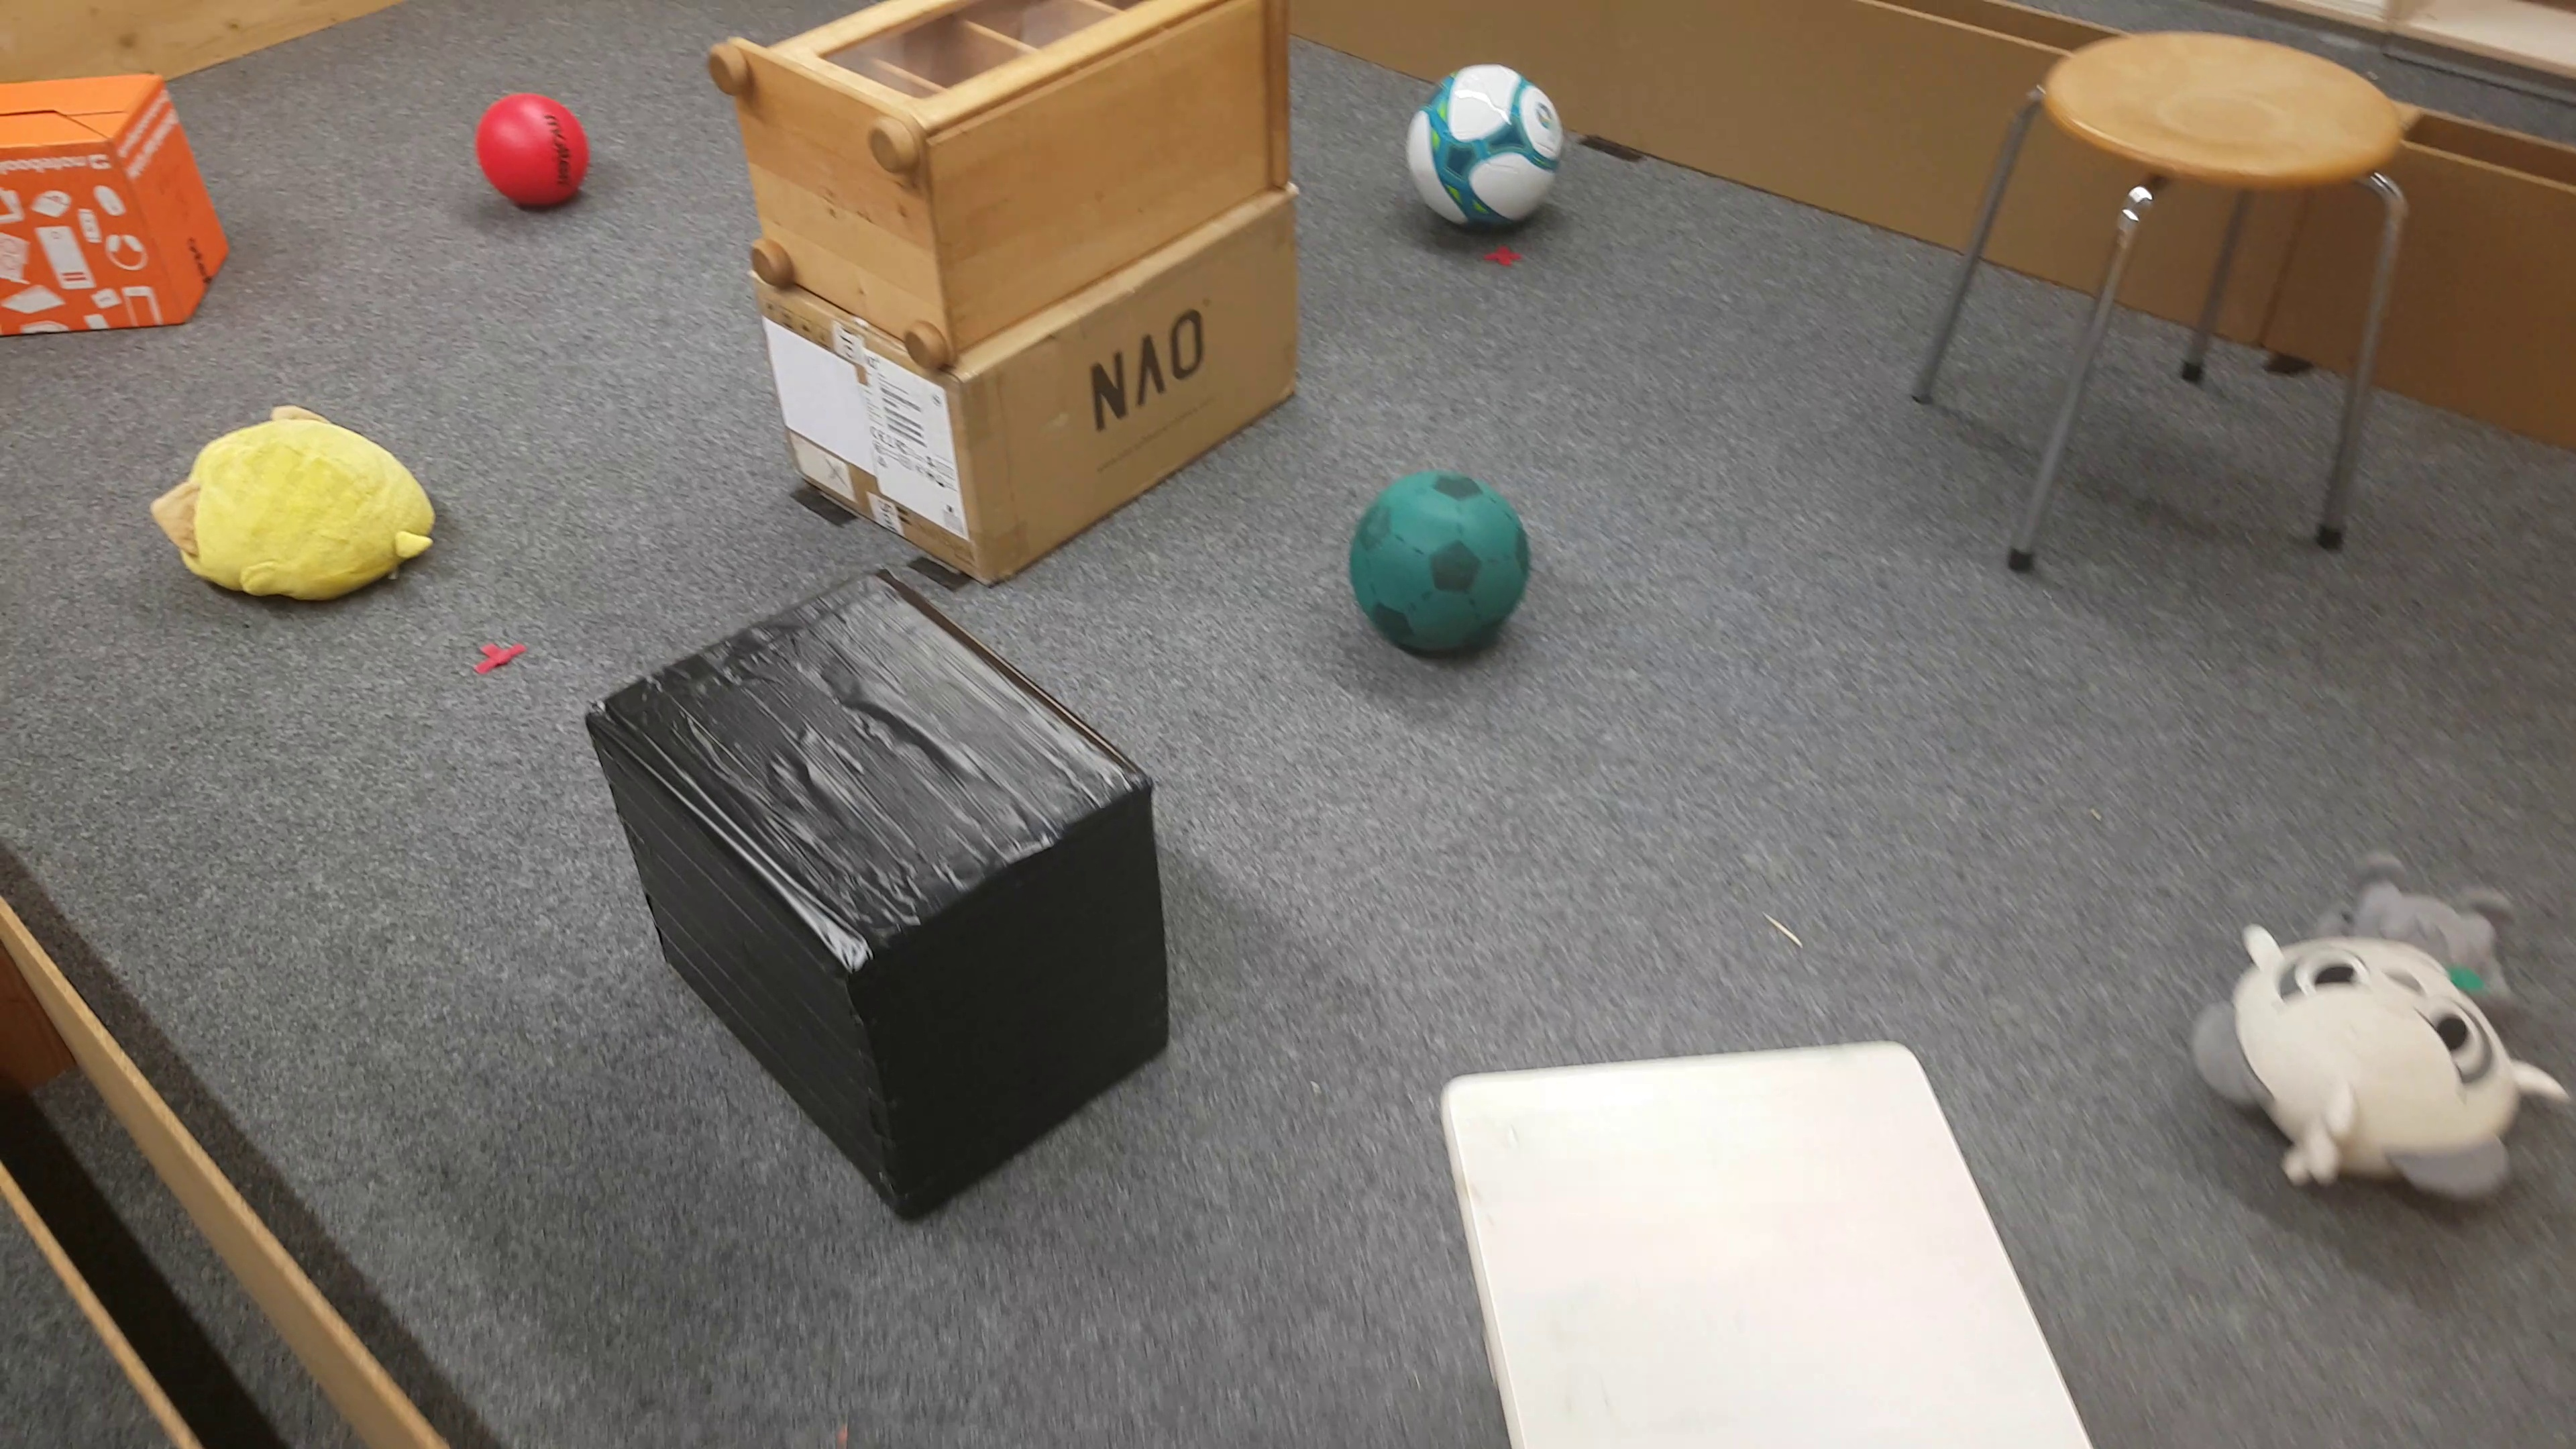grasp: (2187, 842, 2558, 1233), (143, 395, 444, 619)
kick: (1350, 467, 1534, 665), (1407, 62, 1568, 241), (478, 92, 600, 214)
push: (594, 570, 1173, 1233), (0, 87, 235, 340)
